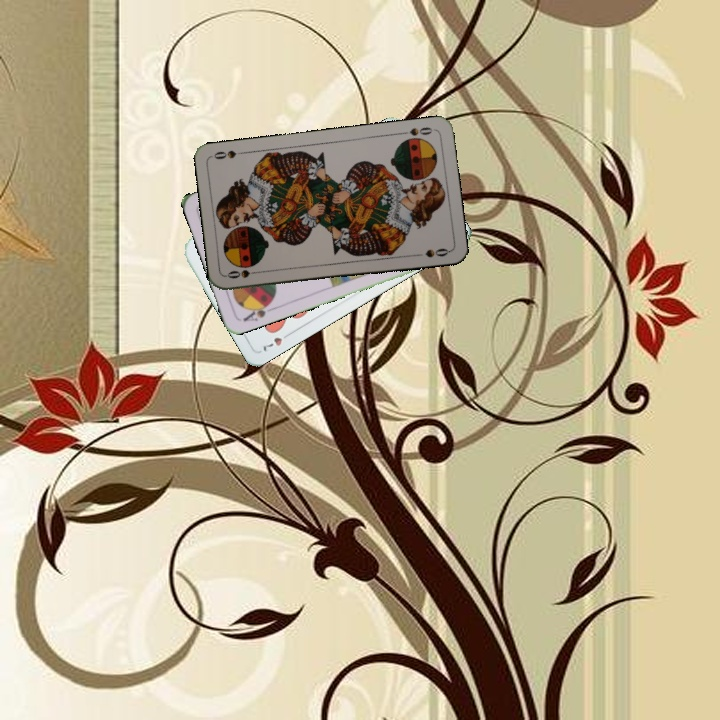H7: (259, 328, 294, 354)
SA: (239, 297, 277, 324)
SO: (223, 266, 264, 281), (396, 123, 437, 138)
